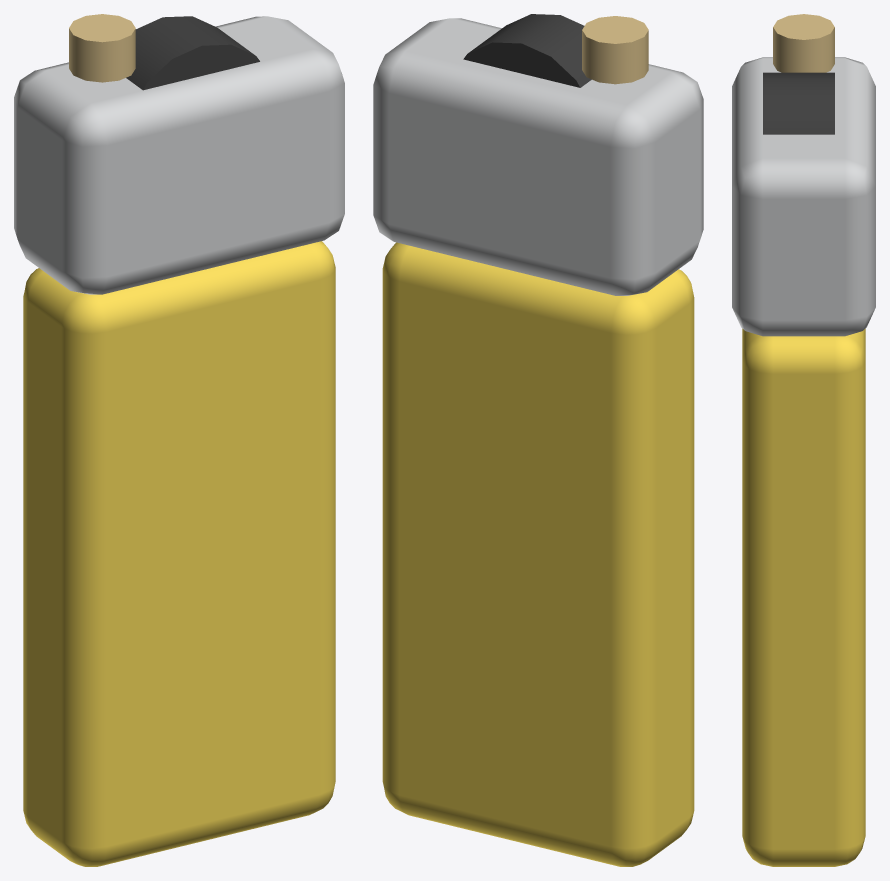
File: paranormal-investigation-house-lighter-49e6d78d__26820.glb
3 views of the same model, side by side, from view 1: azimuth 30°, elevation 25°; view 2: azimuth 150°, elevation 25°; view 3: azimuth 270°, elevation 25° (orthographic). The views are drawn at different scales.
Visible parts, largest first — view 1: lighter; view 2: lighter; view 3: lighter.
Boxes of the visible parts, x1,y1,x2,y2 form: lighter: (14, 14, 344, 866); lighter: (373, 14, 703, 866); lighter: (732, 14, 875, 866).
Size of the model in its own units: 0.029 by 0.081 by 0.014.
